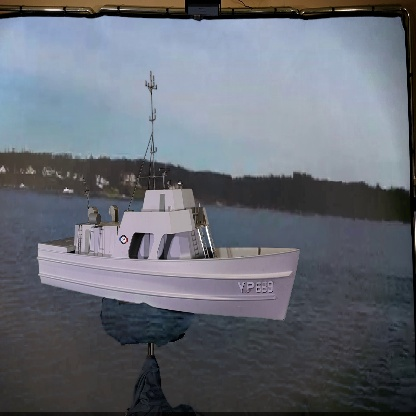YP689: (34, 68, 302, 322)
